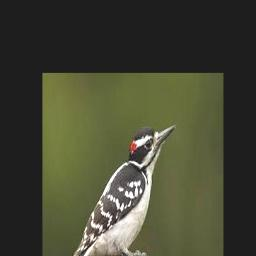Woodpecker: (68, 124, 175, 256)
